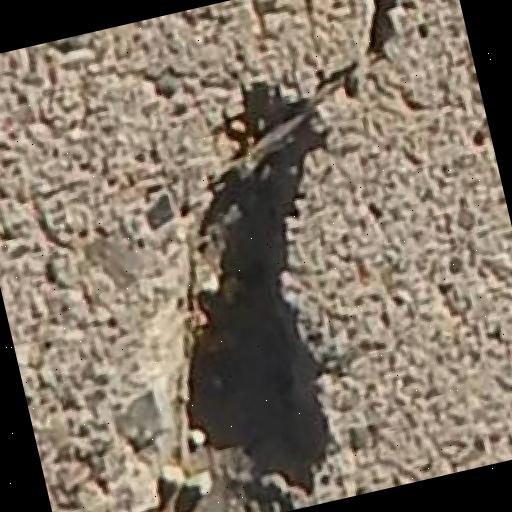spalling: (100, 0, 415, 512)
